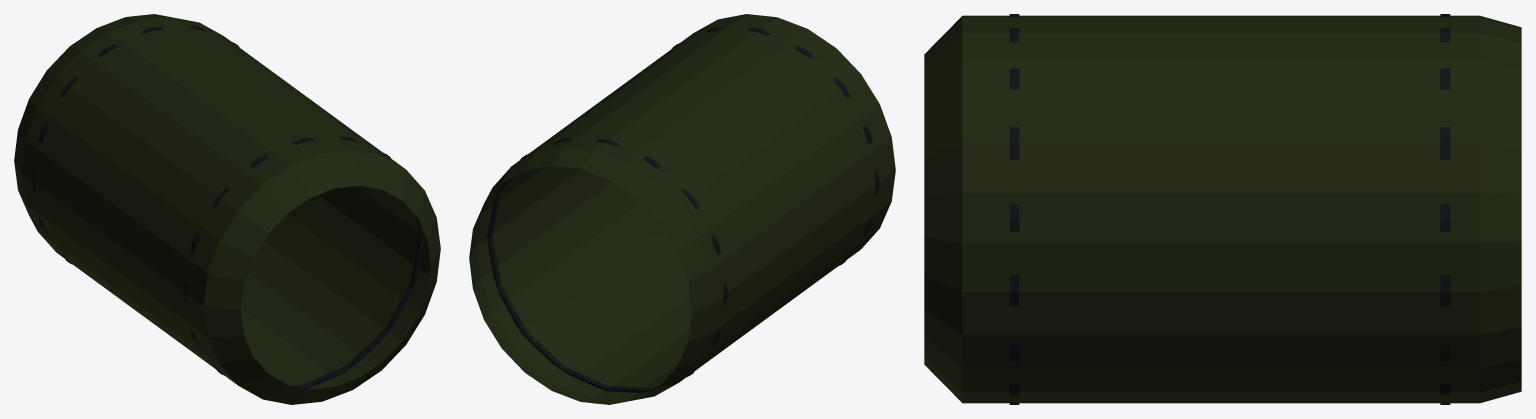
The model's file is Rocket80Twenty__PodShell.obj.
3 views of the same model, side by side, from view 1: azimuth 30°, elevation 25°; view 2: azimuth 150°, elevation 25°; view 3: azimuth 270°, elevation 25° (orthographic). The views are drawn at different scales.
Visible parts, largest first — view 1: Pod_aerodynamic_outer_shell, Identification_band, Identification_band.001; view 2: Pod_aerodynamic_outer_shell, Identification_band.001, Identification_band; view 3: Pod_aerodynamic_outer_shell, Identification_band.001, Identification_band.
Part boxes in pixels (x1,y1,x2,y2): Pod_aerodynamic_outer_shell: (14,14,440,404); Identification_band: (183,136,424,388); Identification_band.001: (31,25,239,264); Pod_aerodynamic_outer_shell: (469,14,895,404); Identification_band.001: (487,138,728,392); Identification_band: (672,27,879,265); Pod_aerodynamic_outer_shell: (924,15,1521,403); Identification_band.001: (1440,14,1450,404); Identification_band: (1009,14,1019,404).
Size of the model in its own units: 1.13 by 1.13 by 1.72.
